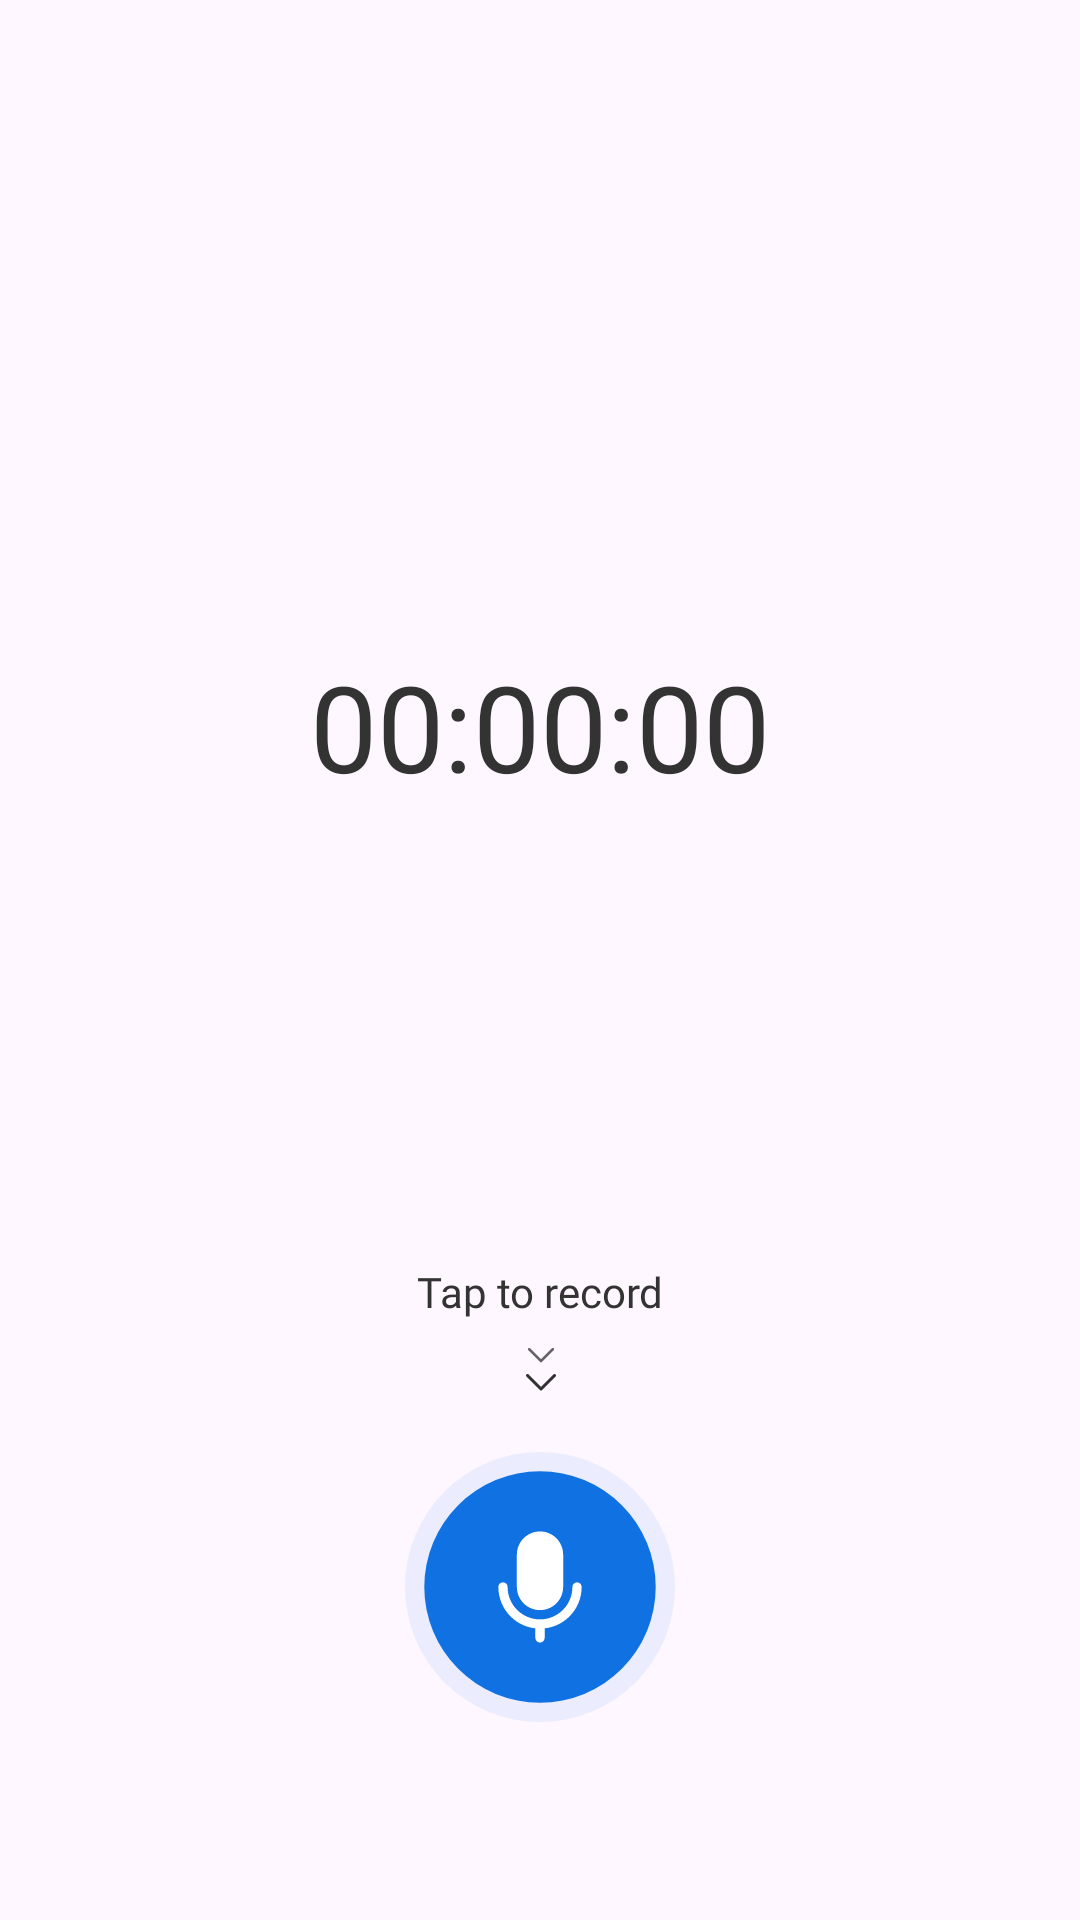

Icon bounding boxes for this 1080*1920 phone screenshot, format rect(x1, y1, x2, y2):
double arrow down: rect(526, 1348, 556, 1391)
